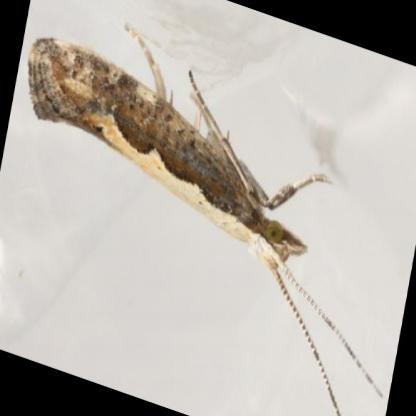plutella: (24, 16, 386, 415)
